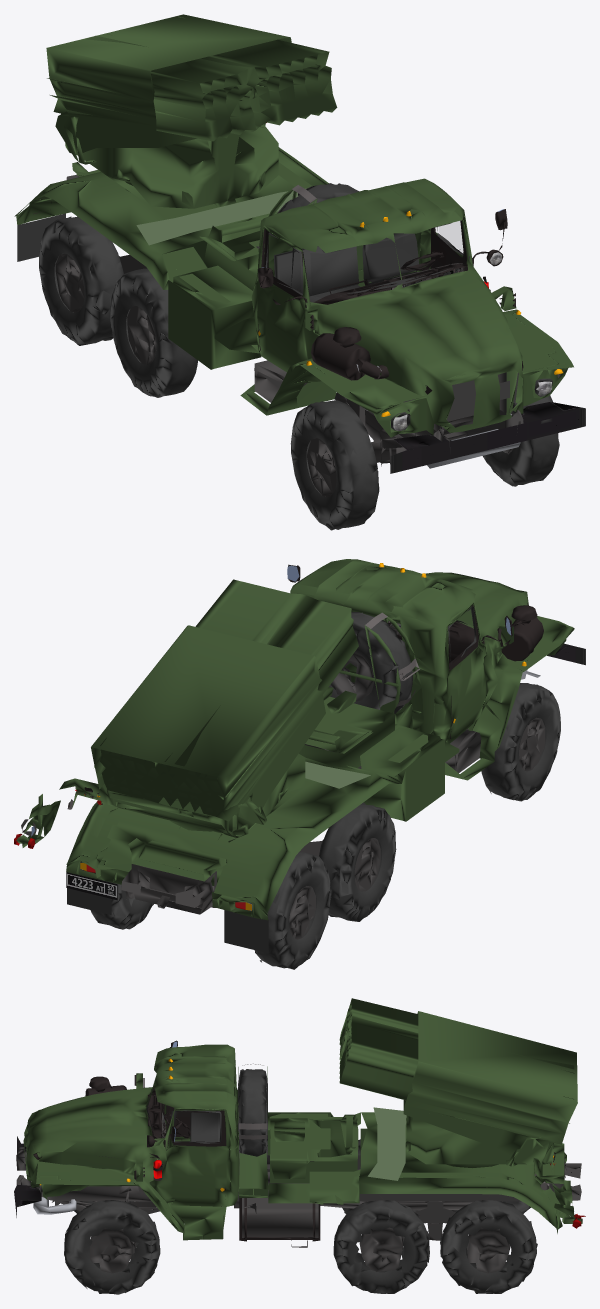
The model's file is mass_tactical_missile_grad.glb.
3 renders of one model, top to bottom at view 1: azimuth 30°, elevation 25°; view 2: azimuth 150°, elevation 25°; view 3: azimuth 270°, elevation 25°, orthographic. The views are drawn at different scales.
Parts seen in each view (by area): view 1: pPlane23_Body_blinn3_0, pPlane42_lambert2_0, polySurface5319_blinn4_0, pCylinder271_blinn5_0, pPlane50_Car_Plane_blinn_0, pPlane21_Bump_blinn12_0; view 2: pPlane23_Body_blinn3_0, pPlane42_lambert2_0, polySurface5319_blinn4_0, pCylinder271_blinn5_0, pPlane50_Car_Plane_blinn_0, pPlane21_Bump_blinn12_0, polySurface5230_lambert3_0; view 3: pPlane23_Body_blinn3_0, pPlane42_lambert2_0, polySurface5319_blinn4_0, pCylinder271_blinn5_0, pPlane21_Bump_blinn12_0, pPlane50_Car_Plane_blinn_0, polySurface5340_blinn11_0, polySurface5230_lambert3_0.
Part boxes in pixels (left/top/right/bottom): pPlane23_Body_blinn3_0: left=14, top=14, right=573, bottom=437; pPlane42_lambert2_0: left=17, top=183, right=560, bottom=530; polySurface5319_blinn4_0: left=55, top=170, right=523, bottom=496; pCylinder271_blinn5_0: left=33, top=201, right=523, bottom=394; pPlane50_Car_Plane_blinn_0: left=390, top=401, right=585, bottom=473; pPlane21_Bump_blinn12_0: left=136, top=184, right=334, bottom=245; pPlane23_Body_blinn3_0: left=16, top=559, right=574, bottom=920; pPlane42_lambert2_0: left=67, top=606, right=560, bottom=969; polySurface5319_blinn4_0: left=121, top=651, right=545, bottom=939; pCylinder271_blinn5_0: left=22, top=564, right=543, bottom=911; pPlane50_Car_Plane_blinn_0: left=66, top=643, right=585, bottom=900; pPlane21_Bump_blinn12_0: left=305, top=761, right=370, bottom=788; polySurface5230_lambert3_0: left=21, top=612, right=419, bottom=835; pPlane23_Body_blinn3_0: left=23, top=998, right=582, bottom=1240; pPlane42_lambert2_0: left=40, top=1069, right=537, bottom=1294; polySurface5319_blinn4_0: left=16, top=1147, right=581, bottom=1273; pCylinder271_blinn5_0: left=33, top=1040, right=575, bottom=1247; pPlane21_Bump_blinn12_0: left=367, top=1107, right=406, bottom=1180; pPlane50_Car_Plane_blinn_0: left=14, top=1136, right=41, bottom=1217; polySurface5340_blinn11_0: left=33, top=1197, right=76, bottom=1214; polySurface5230_lambert3_0: left=161, top=1063, right=572, bottom=1209.
Size of the model in its own units: 3.1 by 3.42 by 7.45.
Materials: 16 (2 with a texture image).
